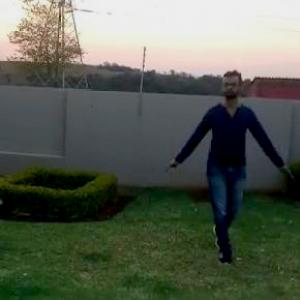land: (174, 66, 295, 269)
